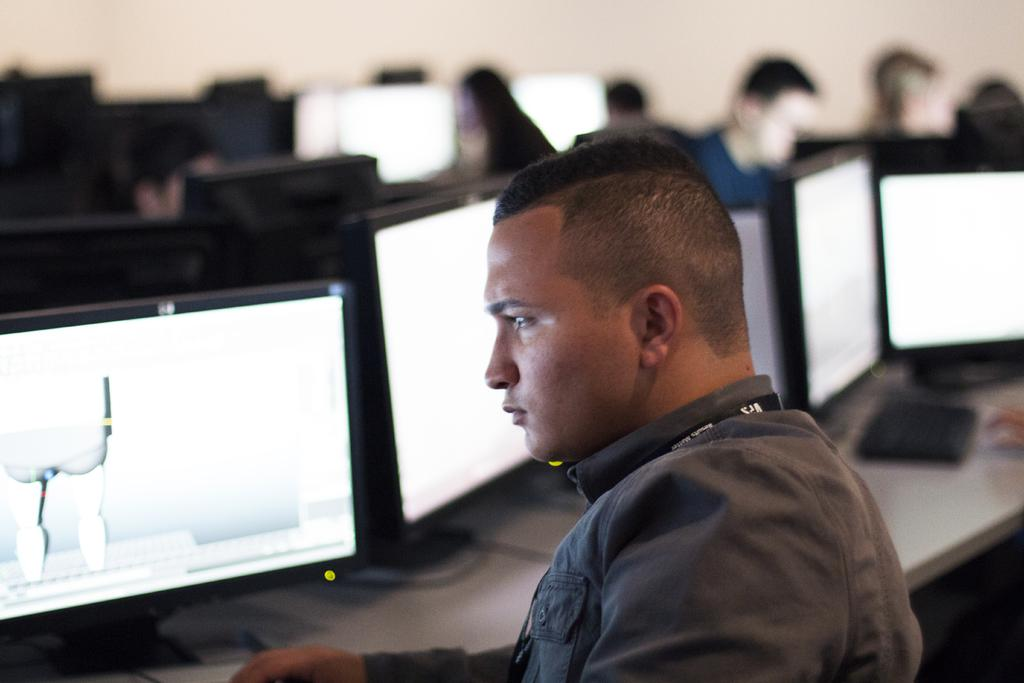Computer-monitor: (1, 228, 406, 661), (346, 147, 563, 563), (725, 122, 897, 449), (870, 148, 1023, 388), (172, 143, 376, 265), (0, 219, 238, 313), (291, 75, 463, 198), (508, 65, 623, 155)
